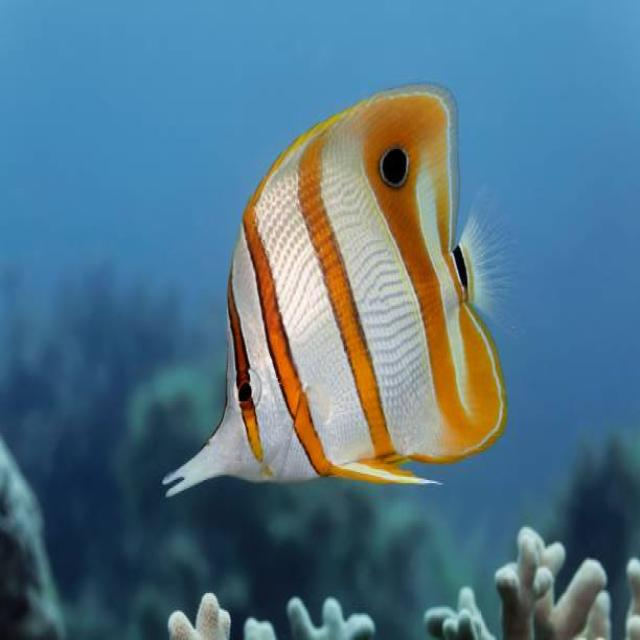ButterflyFish: (165, 90, 512, 520)
